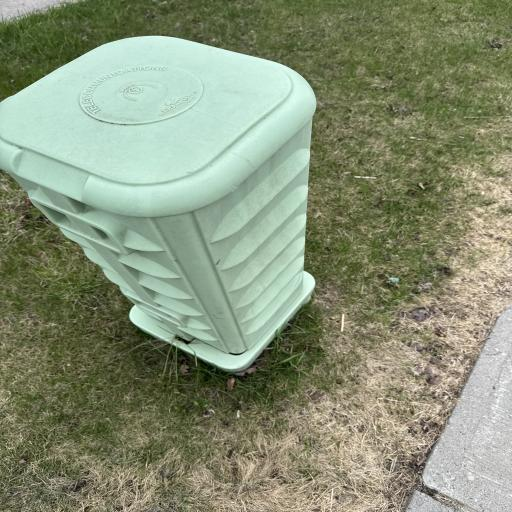Electrical Box: (1, 34, 319, 371)
